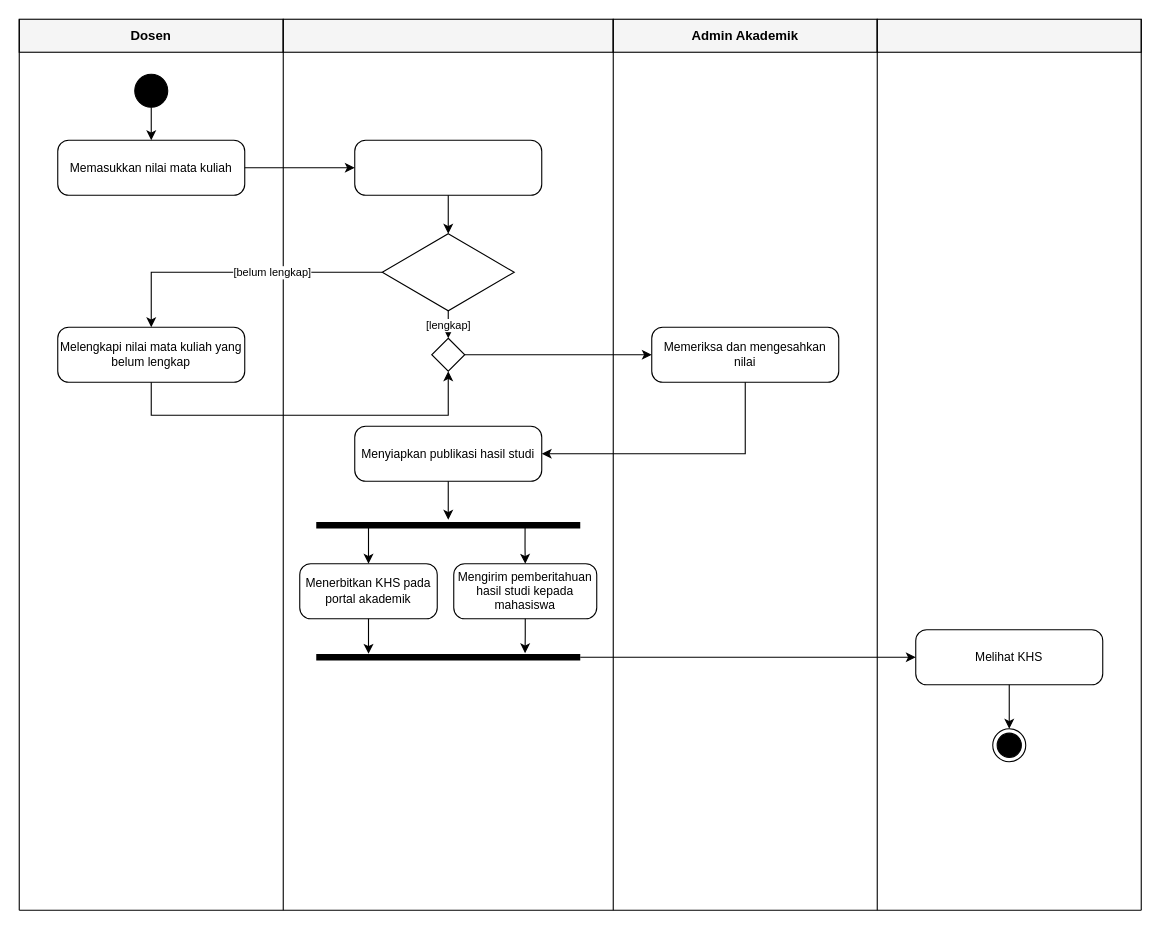
The diagram is 1162 pixels wide and 931 high, and some of its shapes have lost their labels. The shapes that lost their labels are listed below. From the top down, each one's centre as x and y in pixels, then its label:
point 447,35: Sistem
point 1008,35: Mahasiswa
point 448,167: Menyimpan data nilai mata kuliah
point 447,272: Nilai sudah lengkap?
